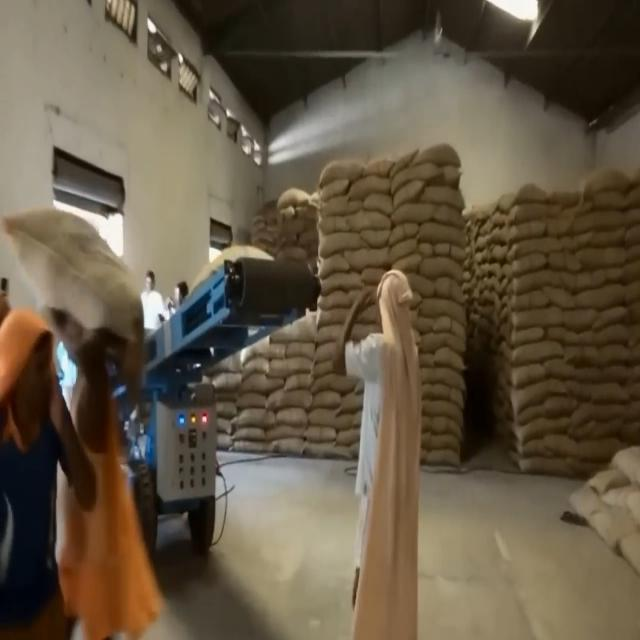gunny_bag: (4, 205, 149, 353), (185, 241, 276, 296), (506, 382, 568, 422), (503, 228, 579, 260), (501, 298, 563, 332), (502, 332, 566, 364), (571, 273, 627, 309), (318, 152, 370, 188), (578, 374, 632, 408), (517, 445, 572, 476), (568, 244, 626, 272), (584, 168, 631, 202), (414, 222, 471, 250), (266, 383, 314, 416), (512, 269, 577, 293), (418, 329, 468, 359), (317, 192, 367, 222), (402, 144, 462, 168), (390, 199, 438, 229), (318, 268, 366, 298), (418, 367, 462, 399), (351, 206, 401, 233), (317, 230, 365, 258), (507, 202, 562, 226), (410, 298, 470, 320), (418, 253, 460, 284), (427, 292, 465, 326), (556, 342, 604, 368), (271, 352, 316, 379), (421, 394, 464, 422), (595, 314, 637, 342), (570, 210, 622, 232), (414, 185, 467, 205), (393, 164, 437, 188), (274, 182, 314, 208), (261, 422, 307, 444), (302, 390, 346, 410), (228, 412, 272, 432), (423, 446, 461, 464), (424, 428, 462, 446), (301, 422, 339, 440)
